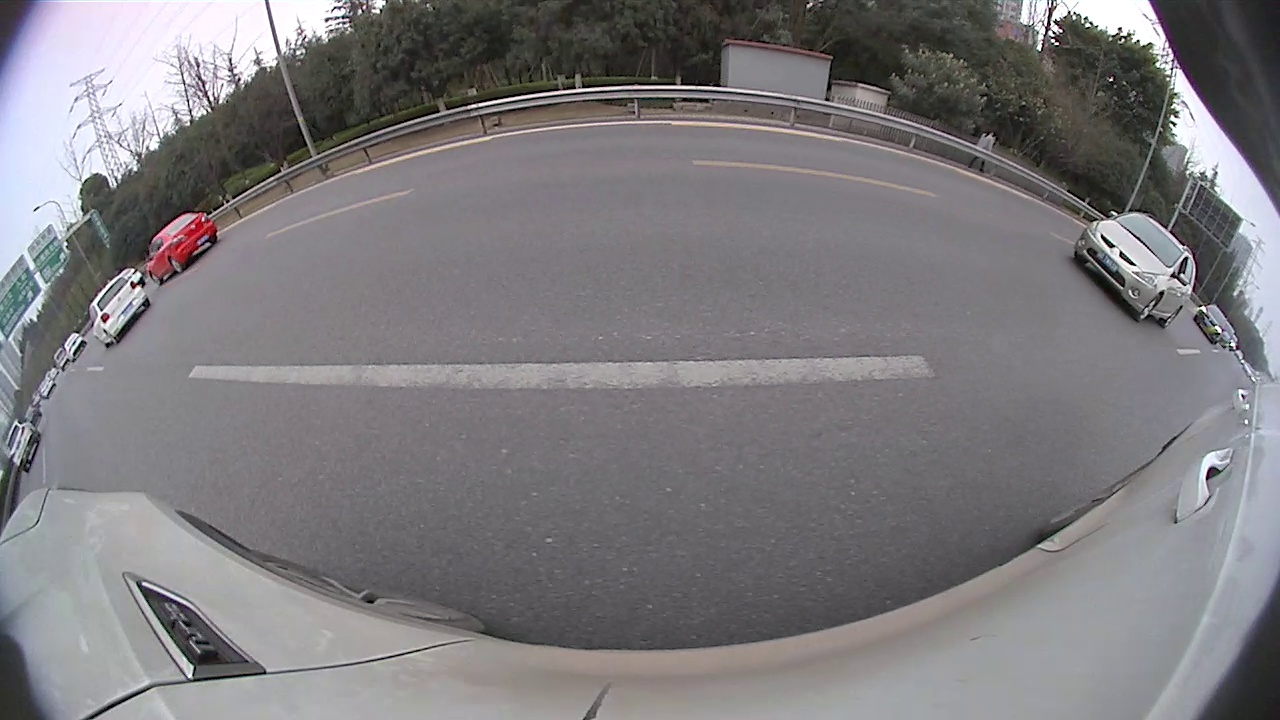bus: (890, 100, 1279, 413), (759, 127, 886, 188)
car: (151, 110, 497, 334), (582, 120, 750, 241), (791, 150, 949, 237), (509, 156, 577, 200)
front: (469, 191, 495, 238), (790, 185, 805, 208)
rear: (301, 228, 380, 317), (1144, 281, 1213, 365), (842, 193, 867, 227)
